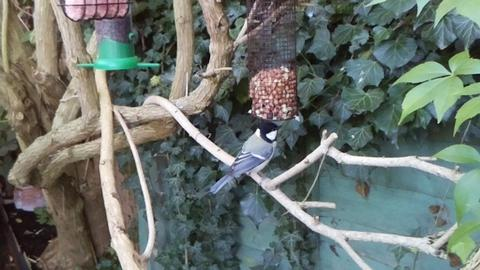great tit: (209, 121, 283, 195)
